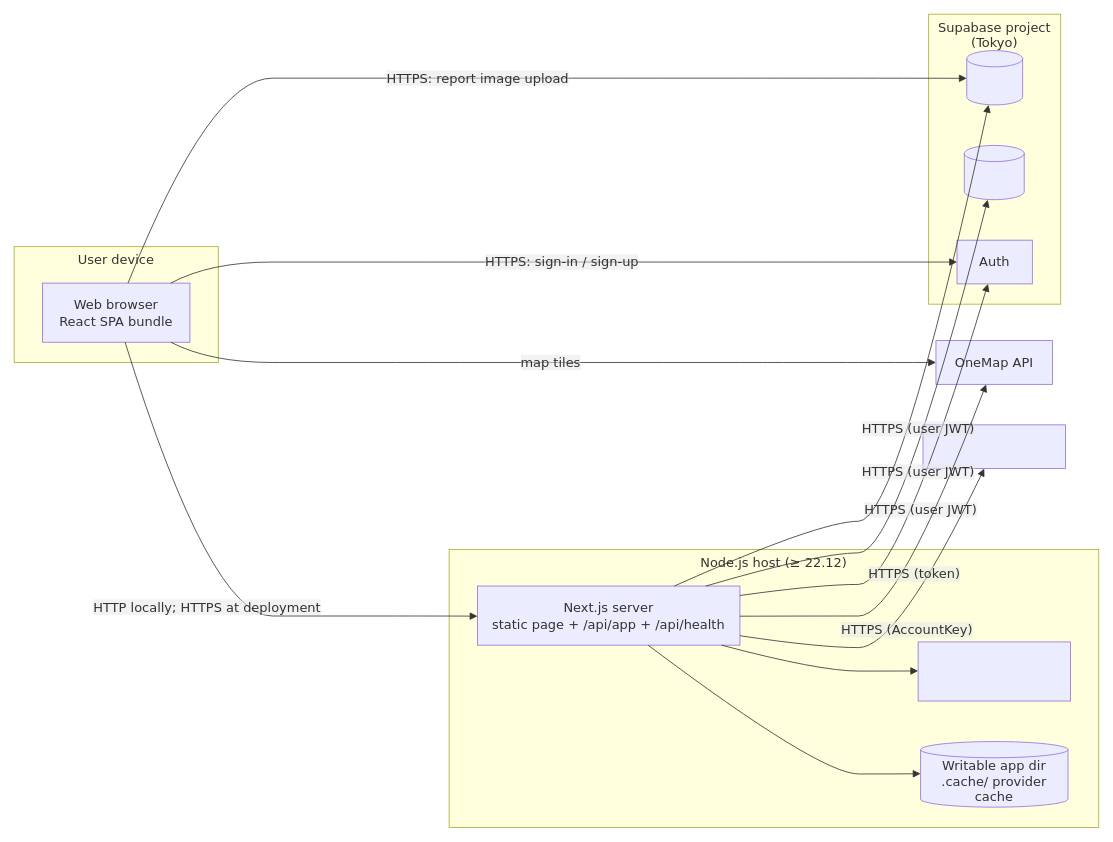
Some shapes in this 1113 by 842 pixel diagram are drawn without their labels. The centre of each missing label's shape, as x and y in pixels:
"credentials.env (server-only keys)" goes at (x=993, y=671).
"LTA DataMall API" goes at (x=994, y=446).
"Postgres" goes at (x=993, y=172).
"Storage" goes at (x=994, y=77).
